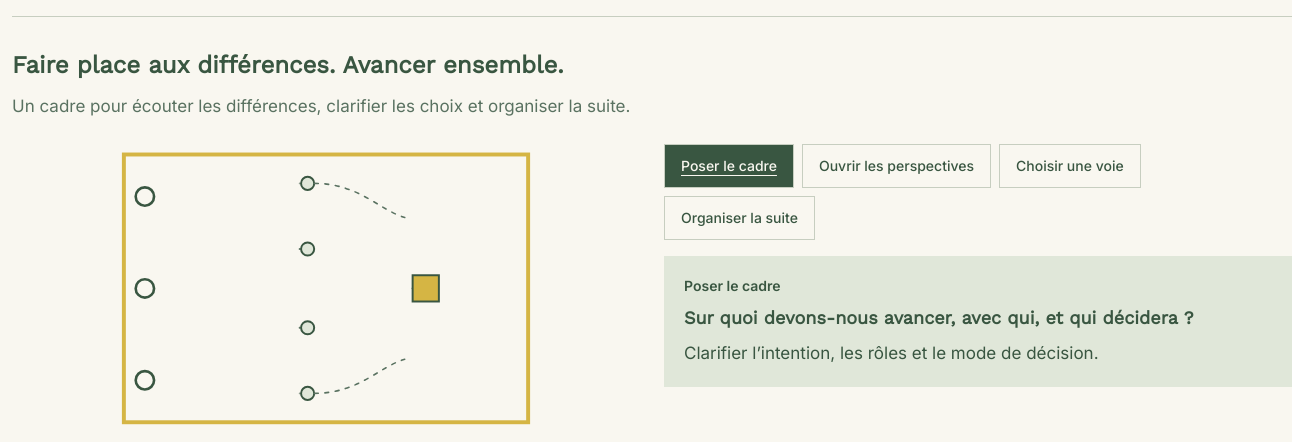
Test: FacilitationIllustration › starts on the first dimension and lets any dimension be chosen directly
Expected: the text "Clarifier l’intention, les rôles et le mode de décision." is shown, [684, 343, 1098, 363]
Click the button "Organiser la suite" at (739,218), box [664, 196, 815, 240]
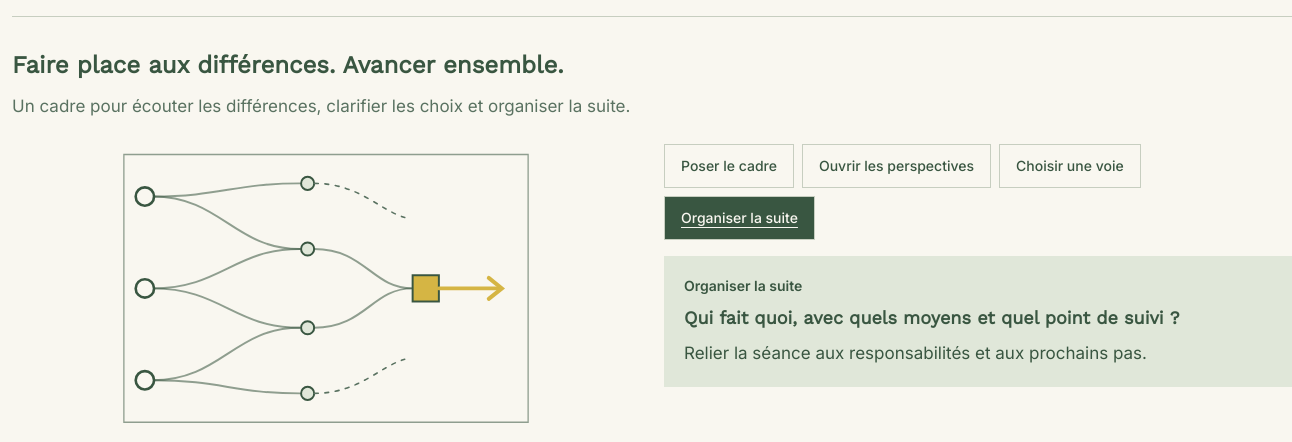
Result: the text "Relier la séance aux responsabilités et aux prochains pas." is shown at [684, 343, 1147, 363]
